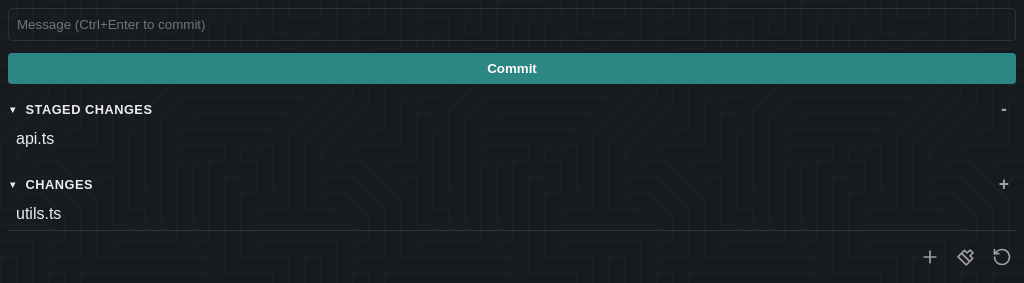
Test: FilesBox Component Tests › Commit and Footer Actions › should clear the staging area after a successful commit
This screenshot has width=1024, height=283.
Type "Test commit" into the field with placeholder "Message (Ctrl+Enter to commit)" at (512, 24), box 8,8 -> 1016,41
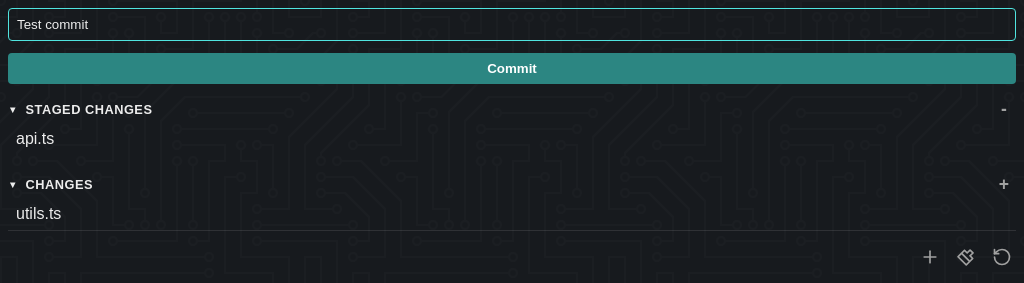
Click the button "Commit" at (512, 68), box 8,53 -> 1016,84
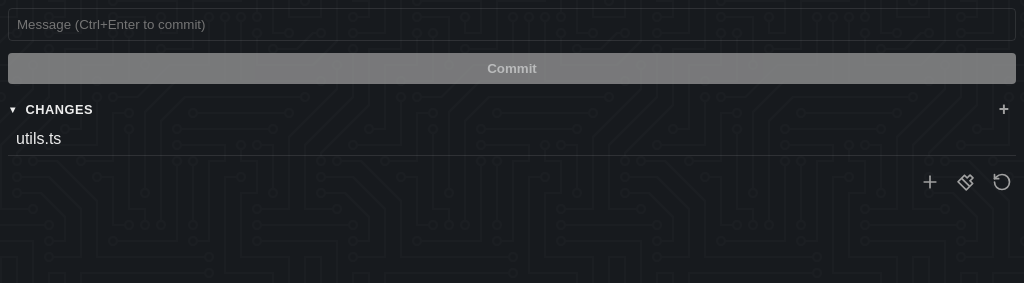
Check: the button "Staged Changes" is gone
